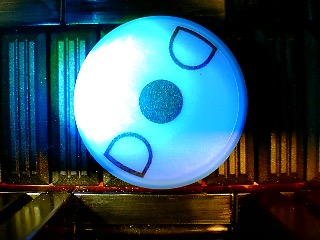BOHOMIPO2: (73, 14, 249, 190)
